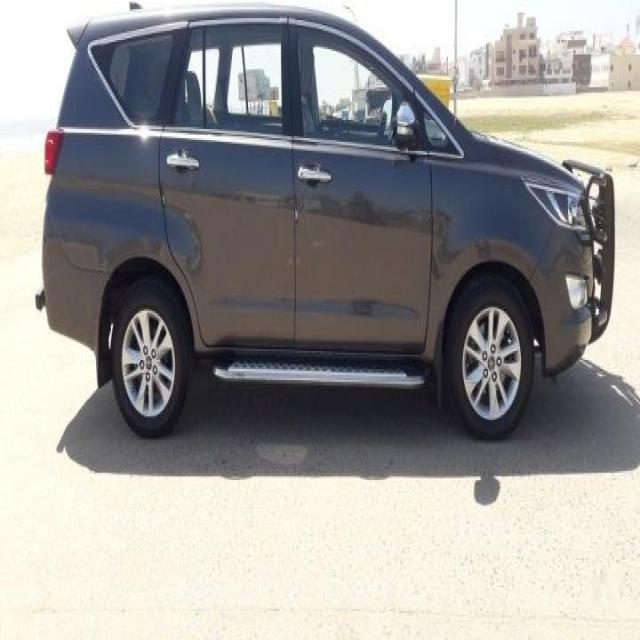light_vehicle: (36, 1, 614, 444)
